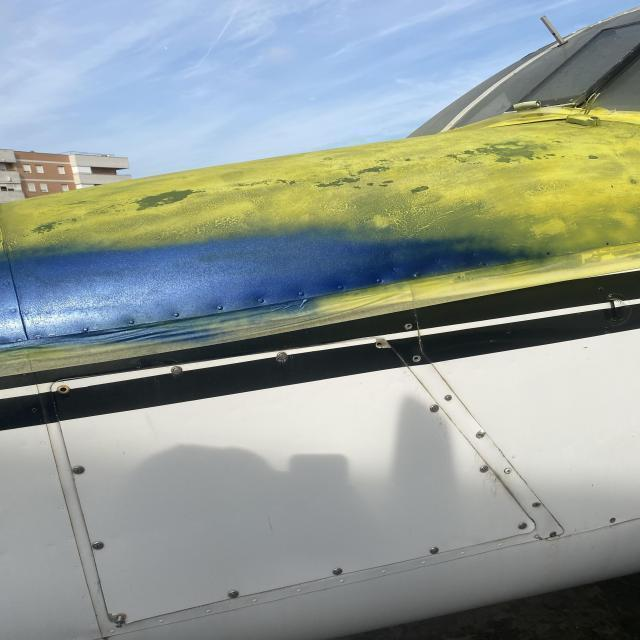Missing_Fastener: (56, 384, 70, 394), (374, 341, 384, 349), (412, 354, 422, 362), (475, 432, 485, 439), (404, 323, 412, 330), (532, 502, 541, 508), (609, 518, 616, 524), (544, 252, 552, 256), (605, 242, 611, 246), (481, 263, 487, 267)
